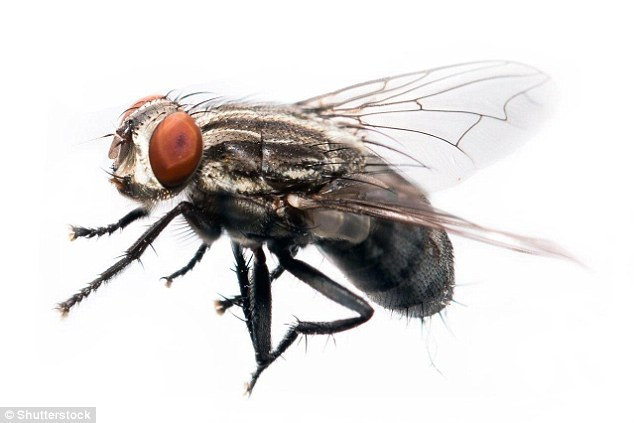fly: (49, 53, 585, 398)
